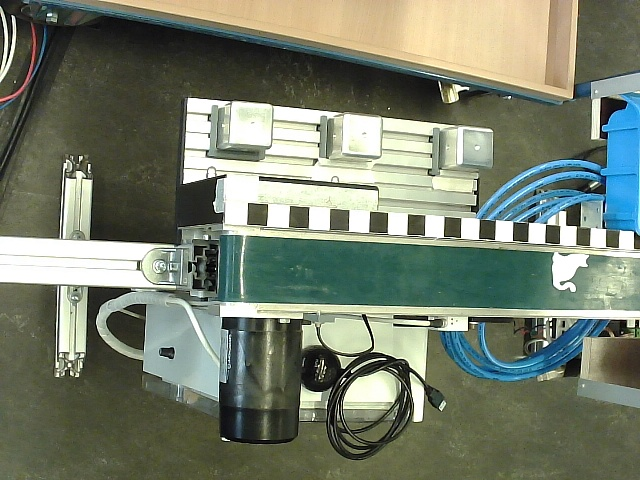cat: (551, 252, 590, 293)
